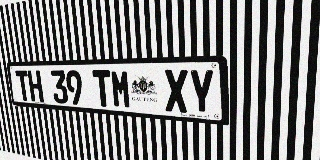3: (50, 70, 68, 104)
9: (65, 70, 84, 105)
H: (27, 70, 44, 102)
M: (110, 70, 132, 109)
T: (92, 70, 113, 107), (15, 71, 31, 101)
X: (164, 69, 189, 113)
Y: (188, 69, 215, 115)
